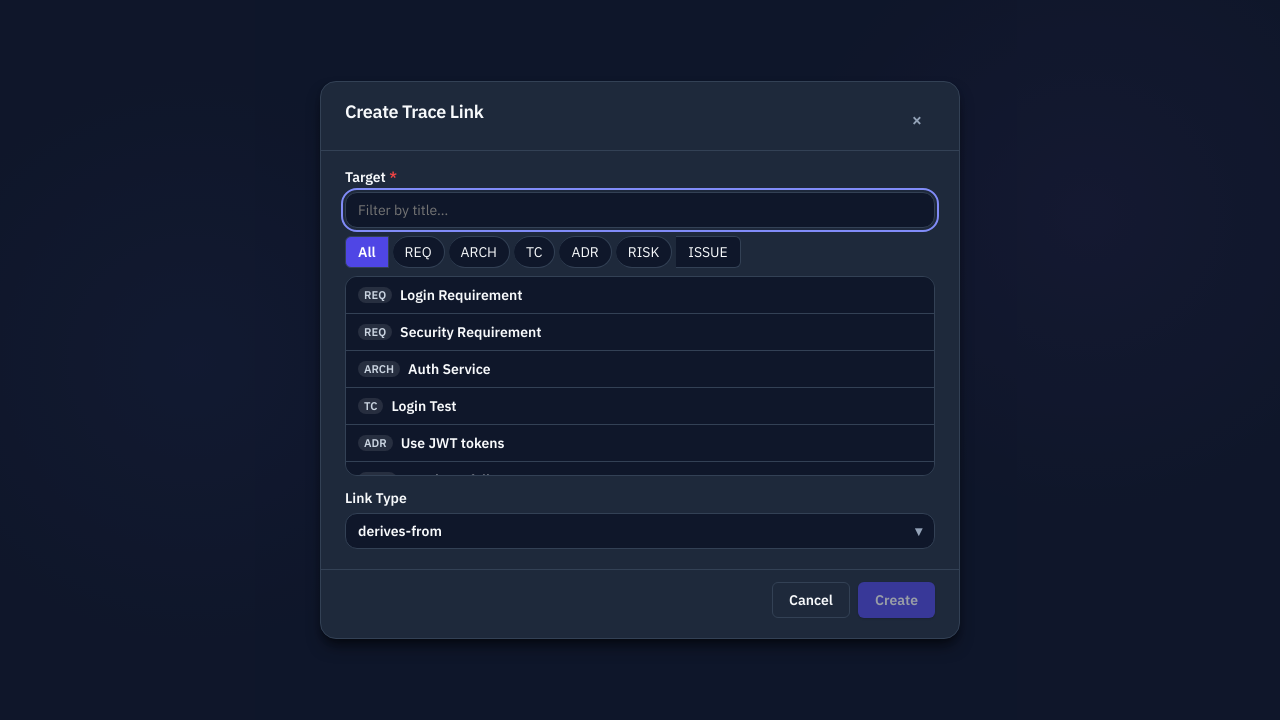
Test: CreateTraceLinkDialog accessible link-type dropdown (#318) › opens on click and renders a listbox with the selected option marked
Step 1. Click the dropdown with test id "create-trace-link-type-select" → {"x": 400, "y": 531}, box [345, 513, 935, 549]
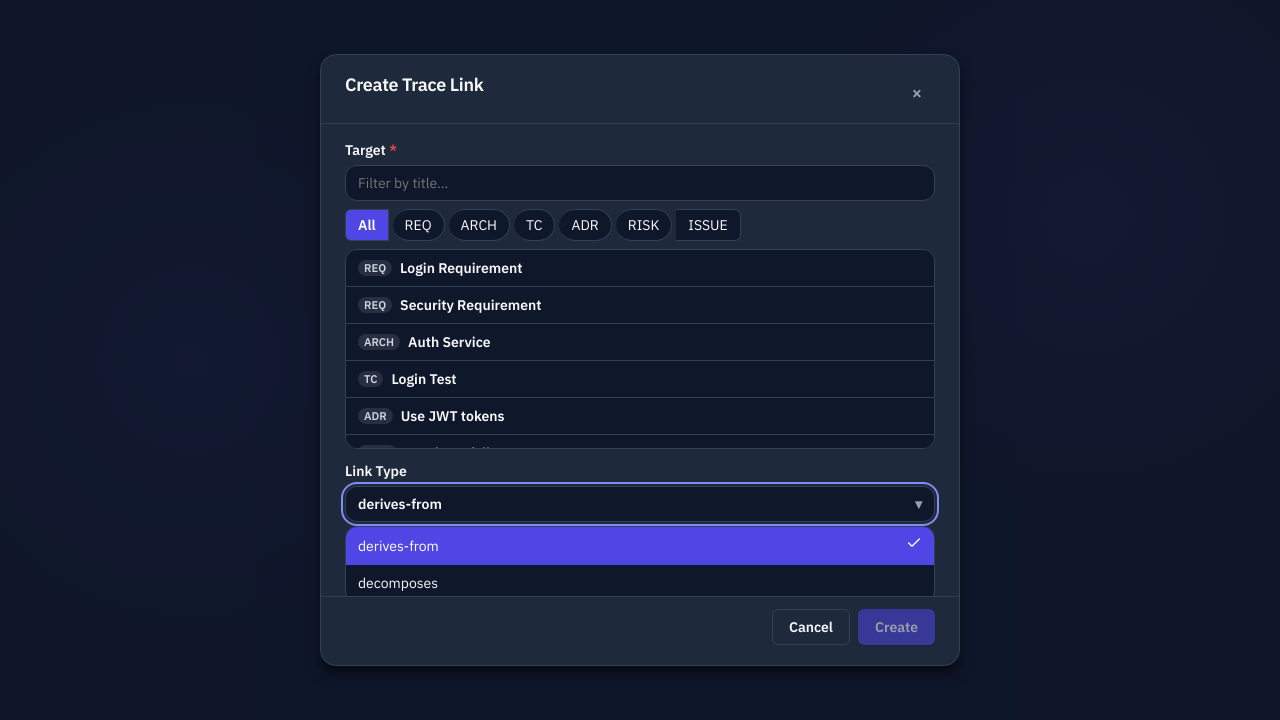
Result: the dropdown with test id "create-trace-link-type-select" is expanded at [345, 486, 935, 522]
Result: the number of options is 2 at [346, 527, 934, 565]; [358, 574, 438, 592]
Result: the icon is shown at [906, 535, 922, 551]
